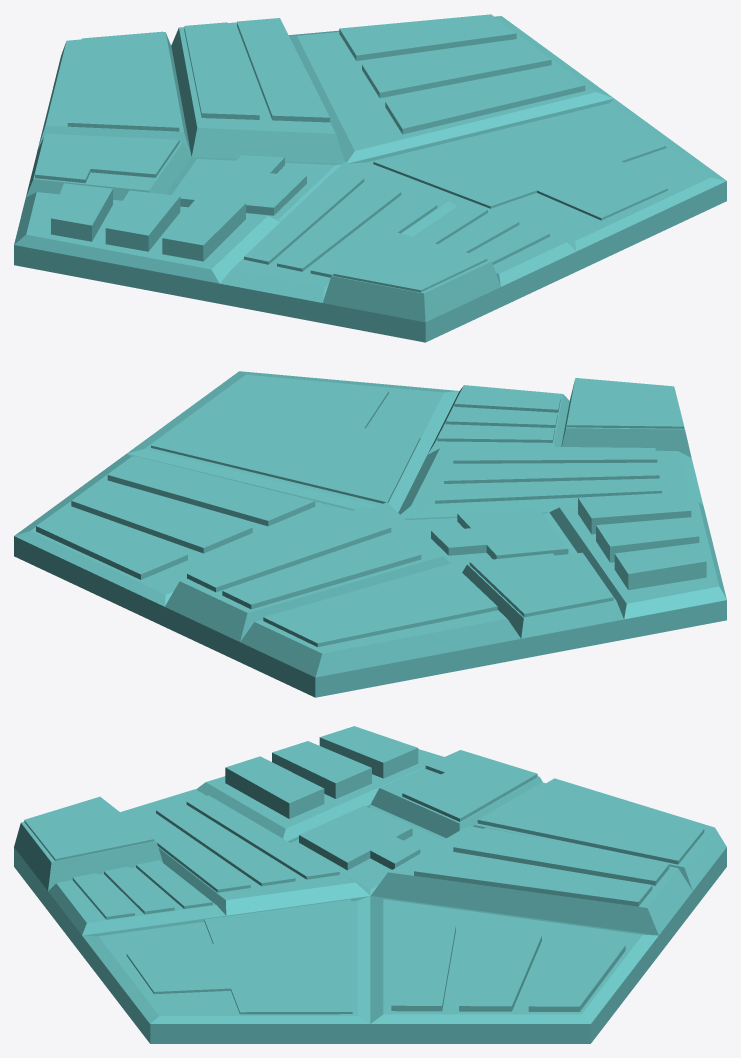
File: DysonSpherePent03.FBX
3 views of the same model, one above another, from view 1: azimuth 30°, elevation 25°; view 2: azimuth 150°, elevation 25°; view 3: azimuth 270°, elevation 25° (orthographic). The views are drawn at different scales.
Parts seen in each view (by area): view 1: Pentagon03; view 2: Pentagon03; view 3: Pentagon03.
Part boxes in pixels (x1=…): Pentagon03: x1=14, y1=14, x2=726, y2=342; Pentagon03: x1=14, y1=371, x2=726, y2=697; Pentagon03: x1=14, y1=726, x2=726, y2=1043.
Bounding box in the file's own units: 31.05 × 2.4 × 32.65.
